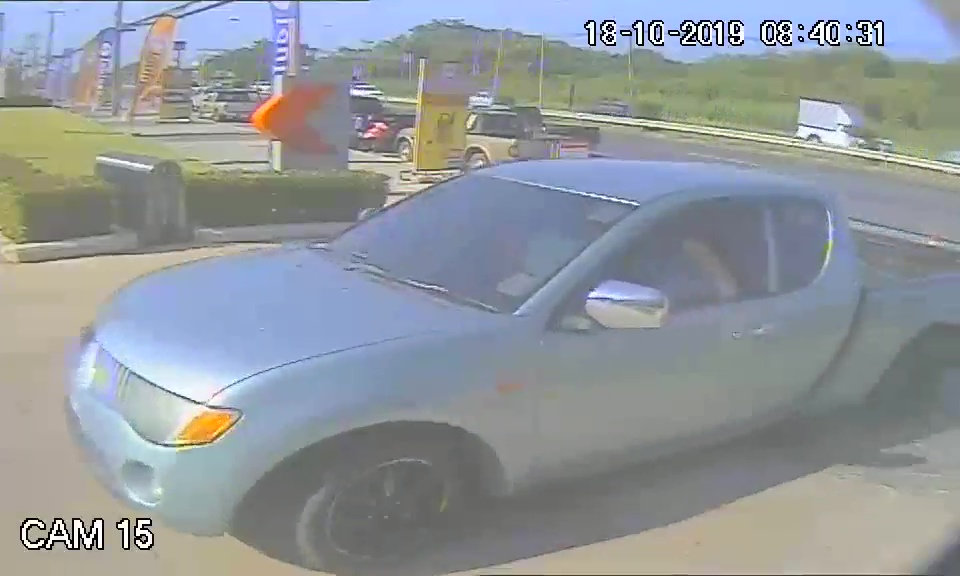pickup: (57, 155, 905, 539)
